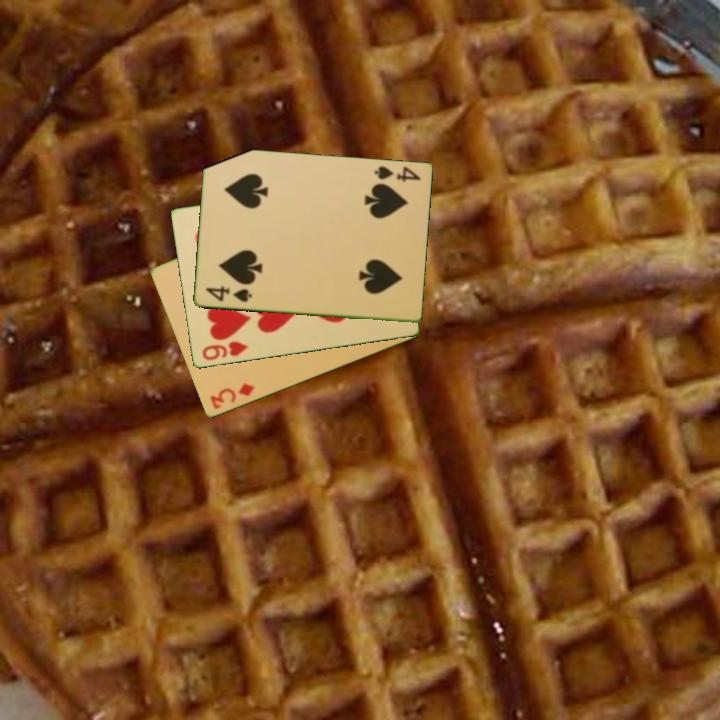3d: (206, 380, 257, 412)
4s: (202, 283, 254, 305), (371, 163, 423, 185)
9h: (198, 338, 251, 363)
